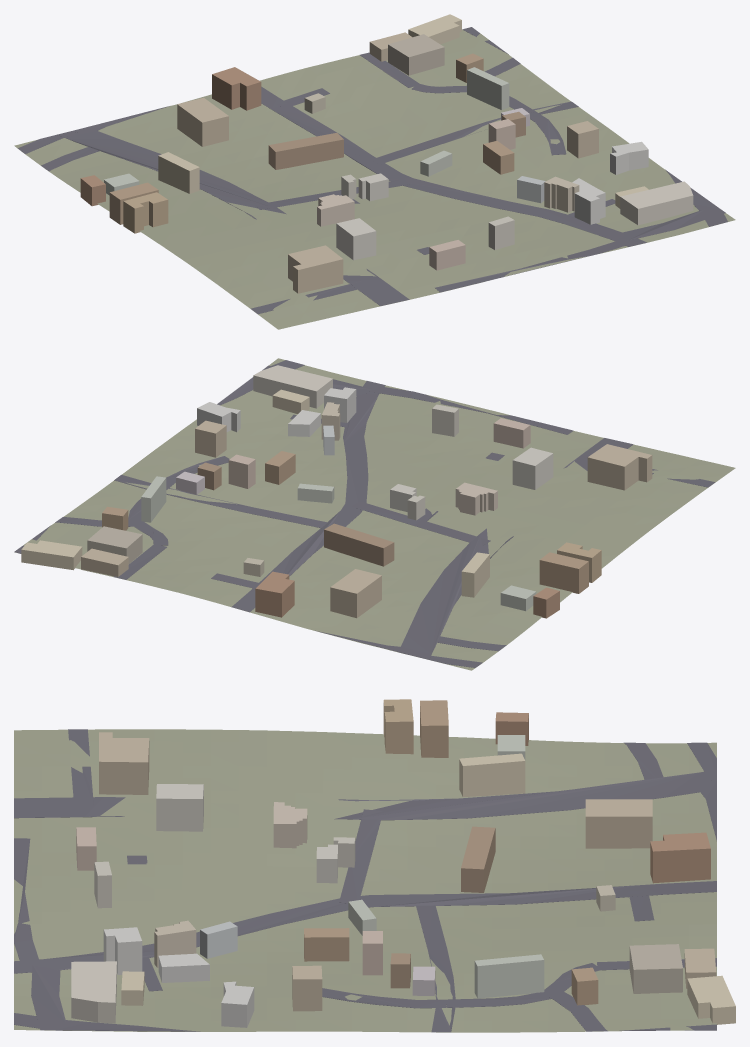
File: chunk_9_7.glb
3 views of the same model, one above another, from view 1: azimuth 30°, elevation 25°; view 2: azimuth 150°, elevation 25°; view 3: azimuth 270°, elevation 25° (orthographic). The views are drawn at different scales.
Visible parts, largest first — view 1: geometry_34, geometry_42, geometry_54, geometry_0, geometry_21, geometry_12, geometry_1, geometry_14, geometry_19, geometry_22, geometry_30, geometry_24 (+26 smaller); view 2: geometry_34, geometry_42, geometry_54, geometry_21, geometry_0, geometry_1, geometry_12, geometry_29, geometry_19, geometry_30, geometry_16, geometry_14 (+27 smaller); view 3: geometry_34, geometry_54, geometry_42, geometry_1, geometry_21, geometry_19, geometry_0, geometry_24, geometry_32, geometry_14, geometry_30, geometry_43 (+36 smaller).
Boxes of the visible parts, bbox=[...] form: geometry_34: bbox=[14, 29, 735, 329]; geometry_42: bbox=[261, 86, 624, 240]; geometry_54: bbox=[57, 131, 409, 306]; geometry_0: bbox=[620, 181, 693, 225]; geometry_21: bbox=[288, 245, 343, 293]; geometry_12: bbox=[268, 133, 343, 169]; geometry_1: bbox=[177, 97, 228, 146]; geometry_14: bbox=[388, 34, 444, 75]; geometry_19: bbox=[212, 67, 261, 110]; geometry_22: bbox=[123, 192, 168, 233]; geometry_30: bbox=[336, 218, 376, 260]; geometry_24: bbox=[467, 67, 509, 110]; geometry_34: bbox=[15, 358, 735, 670]; geometry_42: bbox=[232, 393, 378, 612]; geometry_54: bbox=[399, 438, 633, 659]; geometry_21: bbox=[587, 444, 652, 490]; geometry_0: bbox=[253, 365, 332, 408]; geometry_1: bbox=[330, 569, 381, 618]; geometry_12: bbox=[324, 523, 394, 566]; geometry_29: bbox=[539, 552, 588, 593]; geometry_19: bbox=[255, 571, 294, 617]; geometry_30: bbox=[512, 447, 553, 489]; geometry_16: bbox=[21, 540, 82, 570]; geometry_14: bbox=[87, 526, 142, 563]; geometry_34: bbox=[14, 729, 716, 1032]; geometry_54: bbox=[14, 769, 716, 820]; geometry_42: bbox=[42, 881, 716, 970]; geometry_1: bbox=[585, 799, 652, 848]; geometry_21: bbox=[99, 732, 149, 794]; geometry_19: bbox=[650, 832, 710, 883]; geometry_0: bbox=[71, 961, 116, 1023]; geometry_24: bbox=[474, 954, 544, 998]; geometry_32: bbox=[459, 753, 525, 796]; geometry_14: bbox=[629, 944, 682, 993]; geometry_30: bbox=[156, 784, 203, 831]; geometry_43: bbox=[416, 905, 455, 1032].
Bounding box in the file's own units: 253 × 17.43 × 257.
